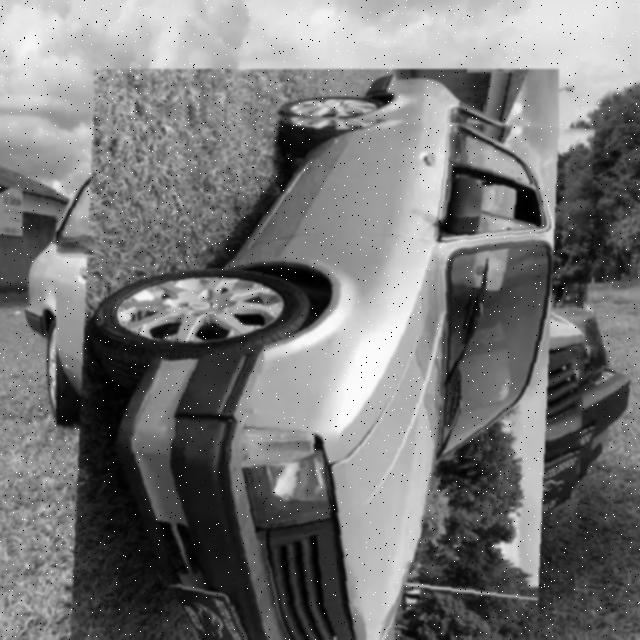car: (57, 106, 596, 640)
